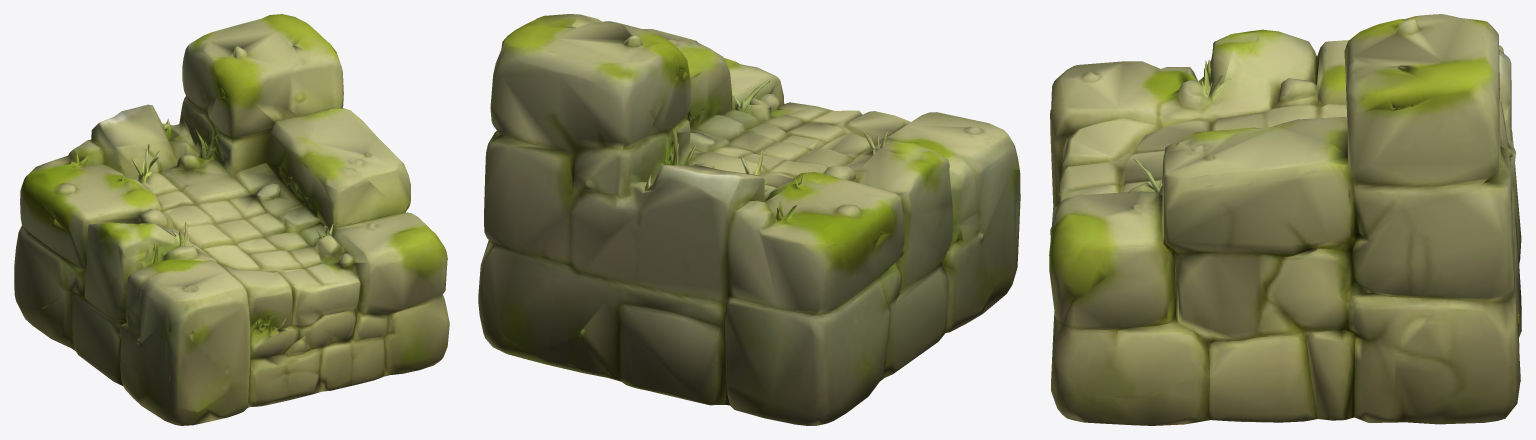
The picture shows the model from 3 angles, left to right: view 1: azimuth 30°, elevation 25°; view 2: azimuth 150°, elevation 25°; view 3: azimuth 270°, elevation 25°; orthographic projection. The views are drawn at different scales.
Parts seen in each view (by area): view 1: world; view 2: world; view 3: world.
Boxes of the visible parts, box(x1,y1,x2,y2) form: world: box(14, 14, 449, 425); world: box(478, 14, 1020, 425); world: box(1049, 14, 1521, 425).
Size of the model in its own units: 0.9868 by 0.8081 by 1.
1 material, 1 textured.
